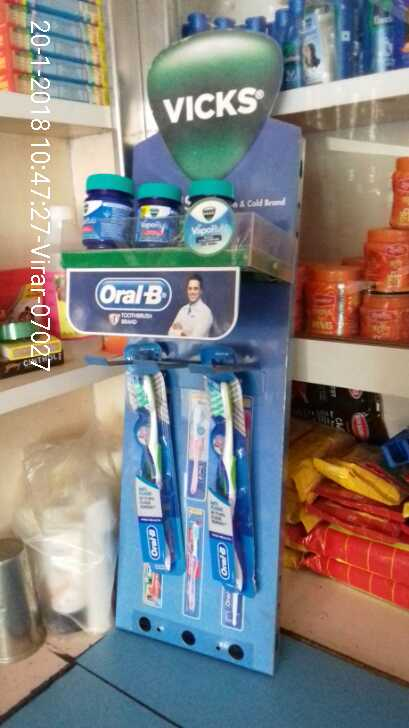pharmacy: (191, 374, 265, 593), (119, 365, 189, 581), (77, 164, 132, 248), (181, 177, 235, 262), (131, 174, 179, 253)
